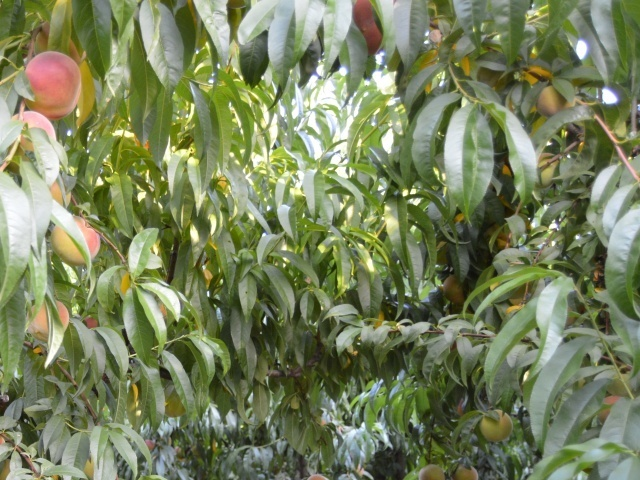peach: (17, 48, 87, 121), (43, 213, 104, 267), (9, 105, 62, 154), (347, 1, 391, 58), (24, 296, 73, 343), (532, 143, 569, 191), (535, 79, 578, 120), (476, 405, 518, 446), (438, 269, 473, 307), (595, 388, 628, 427), (451, 459, 481, 480), (416, 461, 449, 480)
